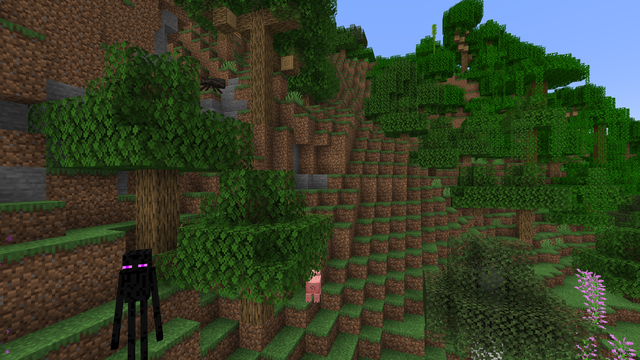araignees: (203, 72, 225, 93)
cochons: (301, 275, 325, 302)
endermens: (116, 244, 156, 358)
